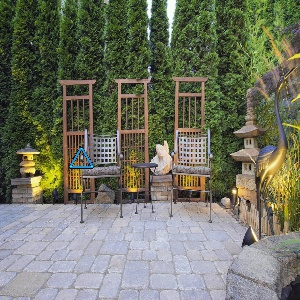triangle: (68, 146, 96, 172)
